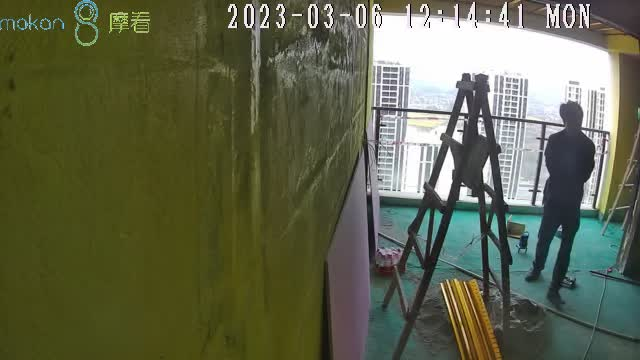people: (525, 100, 595, 307)
window: (372, 13, 614, 214)
